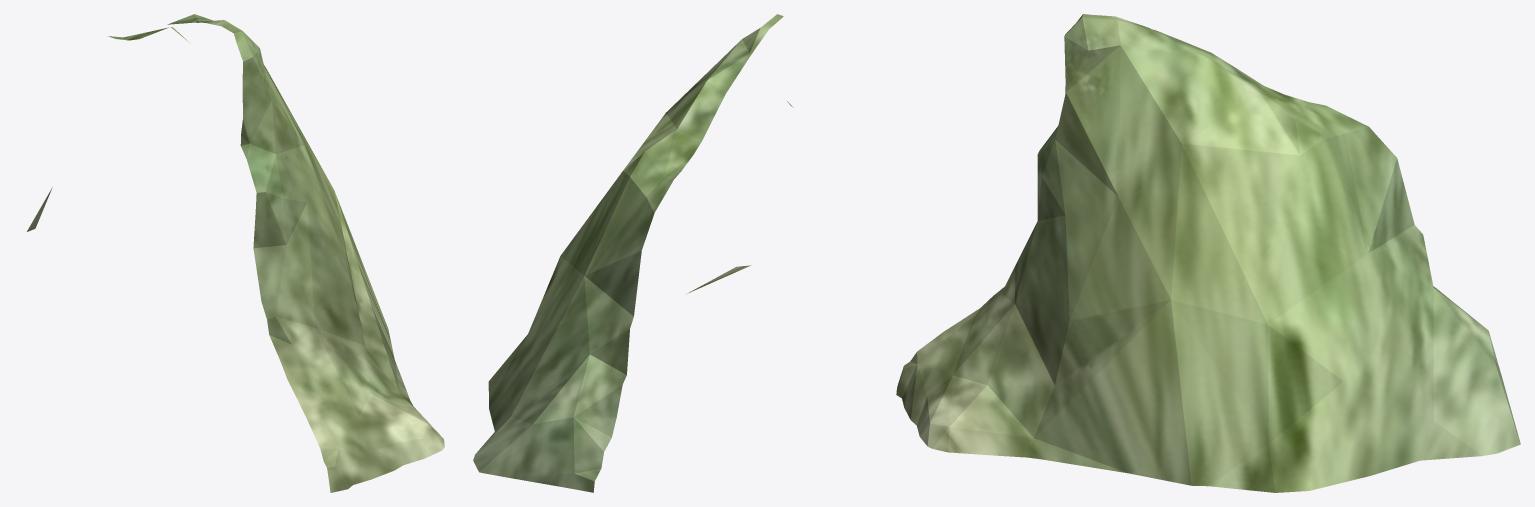
3 views of the same model, side by side, from view 1: azimuth 30°, elevation 25°; view 2: azimuth 150°, elevation 25°; view 3: azimuth 270°, elevation 25° (orthographic). The views are drawn at different scales.
Bounding box in the file's own units: 0.8505 × 1.4 × 2.12.
1 material, 1 textured.
